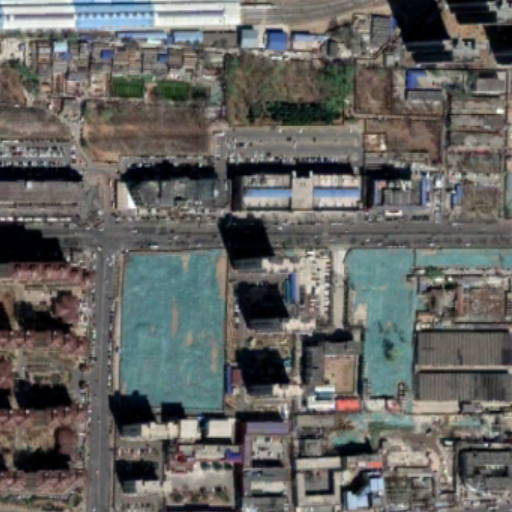cw: (347, 244, 512, 402), (111, 246, 228, 416)
